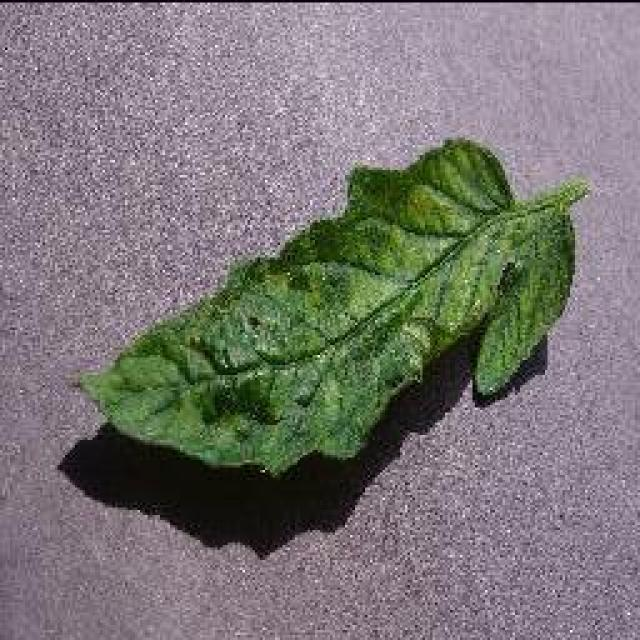Tomato___Tomato_mosaic_virus: (82, 138, 585, 475)
